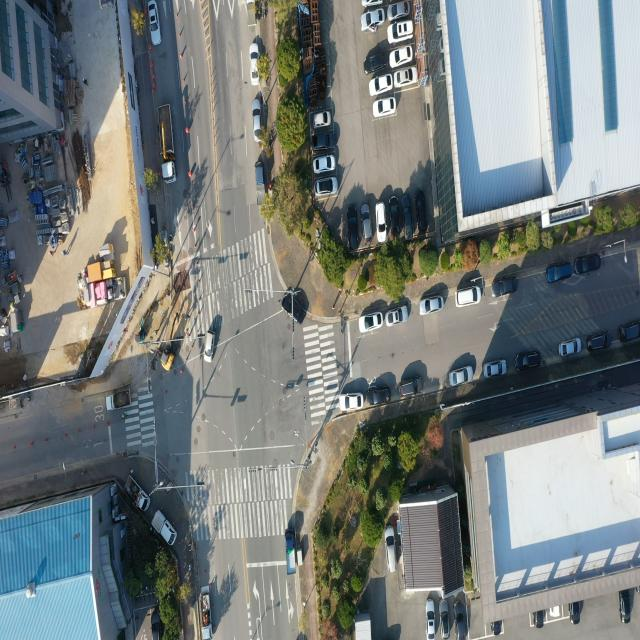car: (282, 291, 304, 329), (362, 48, 388, 77), (412, 190, 428, 237), (250, 92, 265, 142), (382, 525, 397, 575), (148, 0, 161, 48), (386, 0, 412, 24), (361, 8, 386, 32), (619, 584, 634, 624), (491, 276, 517, 299), (546, 260, 572, 283), (367, 385, 391, 409), (617, 320, 640, 345), (437, 599, 451, 640), (574, 253, 600, 275), (388, 190, 400, 237), (361, 200, 373, 245), (388, 22, 413, 43), (449, 364, 474, 385), (454, 286, 480, 306), (515, 351, 542, 370), (358, 312, 382, 333), (338, 392, 363, 412), (402, 192, 413, 237), (390, 45, 412, 67), (371, 74, 394, 95), (482, 358, 506, 378), (374, 98, 396, 119), (312, 132, 336, 151), (203, 326, 216, 361), (386, 307, 408, 327), (558, 338, 581, 357), (419, 296, 443, 314), (587, 333, 608, 352), (314, 177, 336, 195), (377, 203, 387, 242), (454, 601, 464, 640), (348, 206, 357, 249), (314, 156, 334, 175), (426, 599, 436, 637), (250, 45, 259, 87), (396, 68, 416, 86), (399, 380, 418, 398), (314, 110, 331, 127), (570, 600, 581, 625), (534, 610, 544, 628)
medium_truck: (156, 102, 178, 184)
small_truck: (151, 509, 177, 548), (125, 470, 148, 514), (198, 583, 212, 640), (285, 520, 297, 579), (252, 162, 267, 206), (106, 387, 130, 411)
